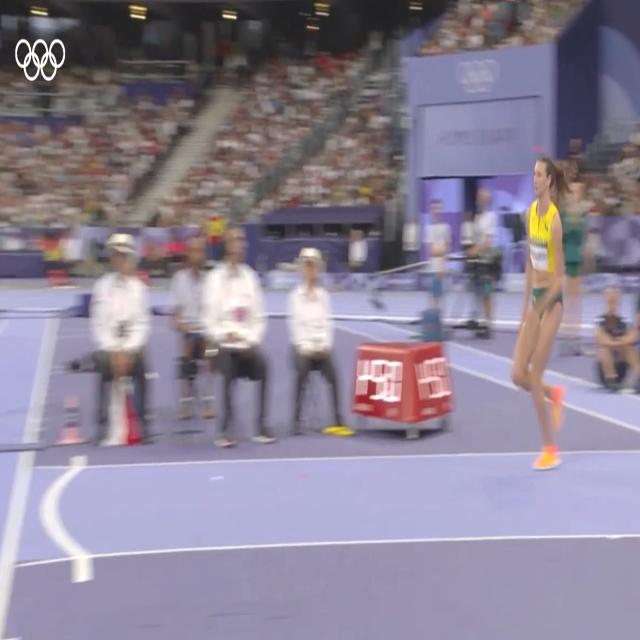run: (512, 156, 570, 472)
